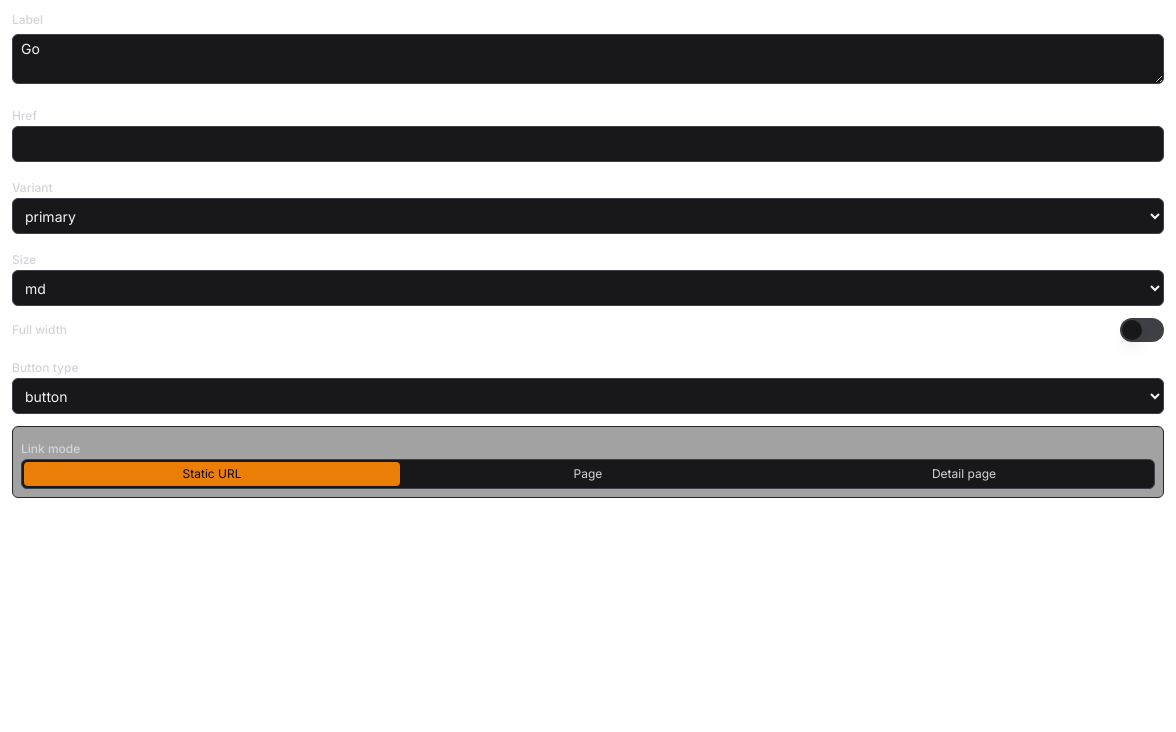
Test case: ButtonEditPanel › switching to Detail mode disables the Href input and writes linkMode=detail
This screenshot has width=1176, height=732.
What coordinates should you click on to do the following:
click the radio button with test id "button-link-mode-detail"
I would click on:
 (964, 474)
Its box is top-left (776, 462), bottom-right (1152, 486).
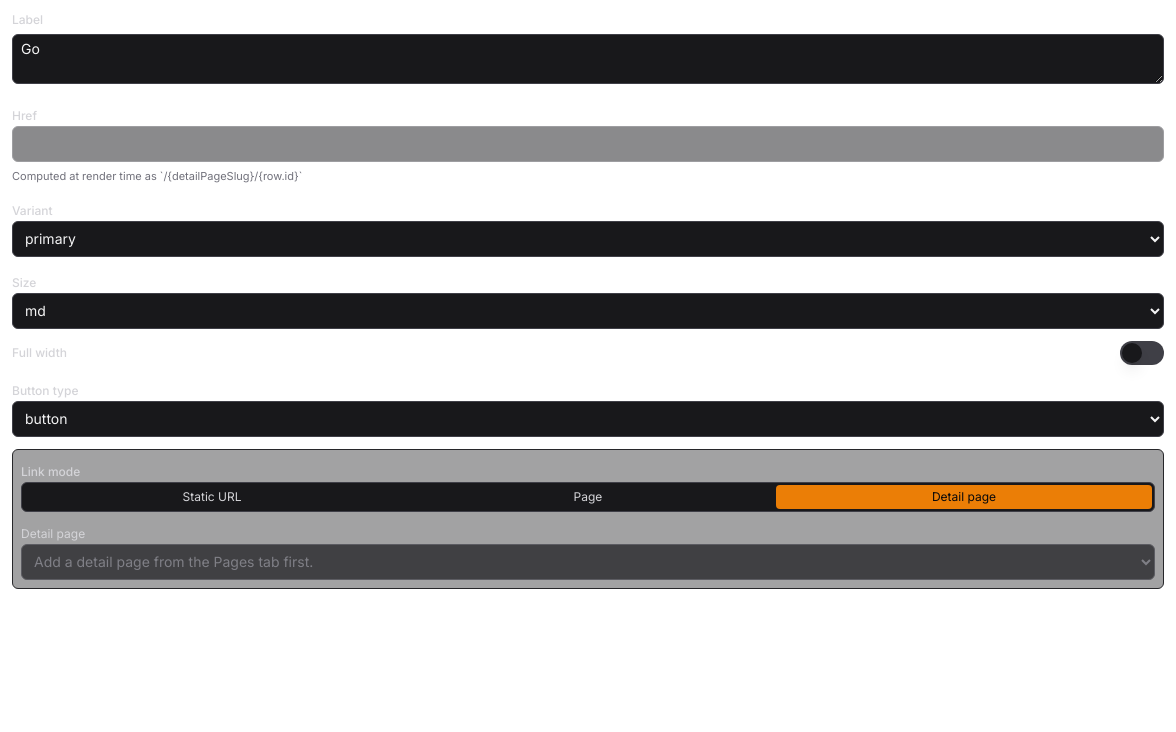
Result: the field with test id "button-href" is disabled at top-left (12, 126), bottom-right (1164, 162)
